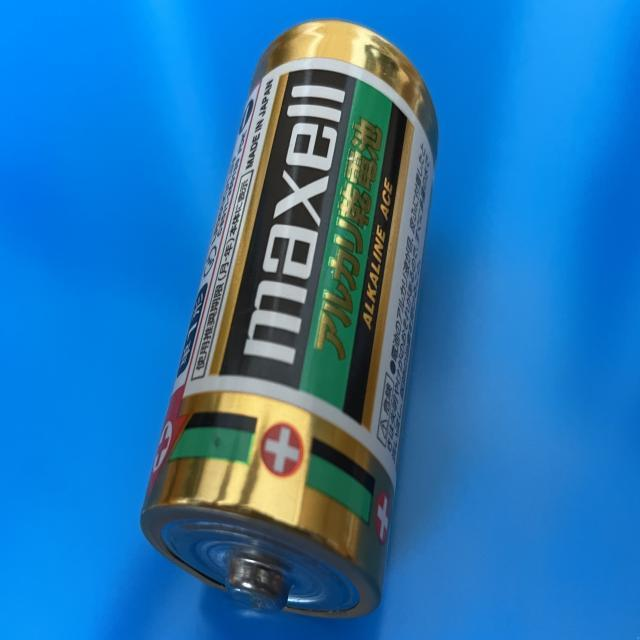hazardous waste: (136, 12, 446, 626)
